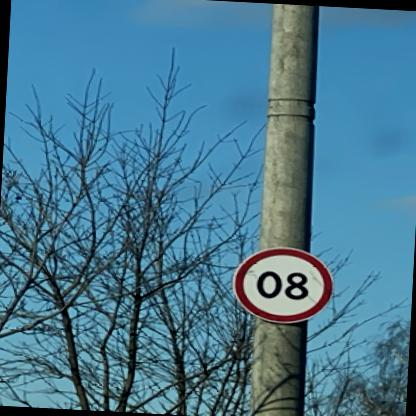speedlimit: (232, 244, 336, 322)
